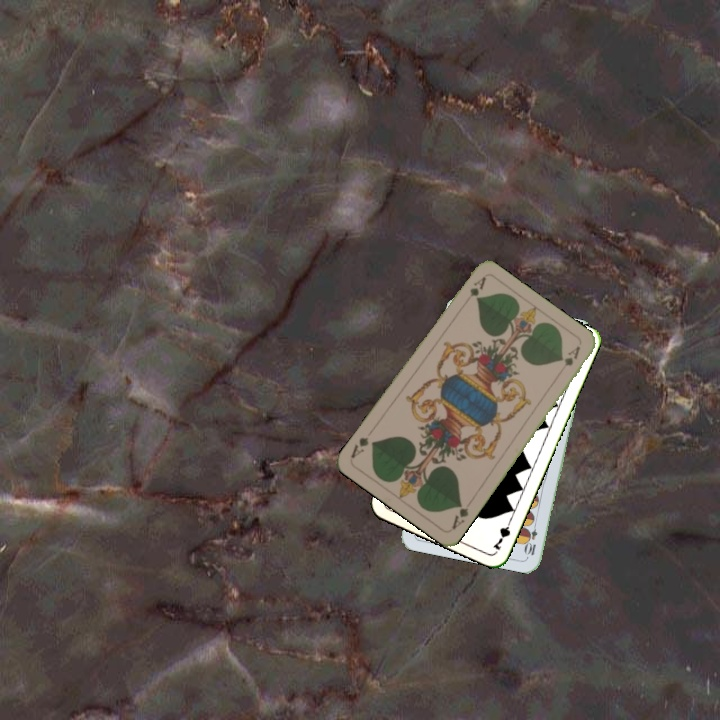E10: (522, 517, 540, 558)
G7: (489, 514, 515, 553)
GA: (460, 273, 489, 308), (447, 498, 471, 532)
